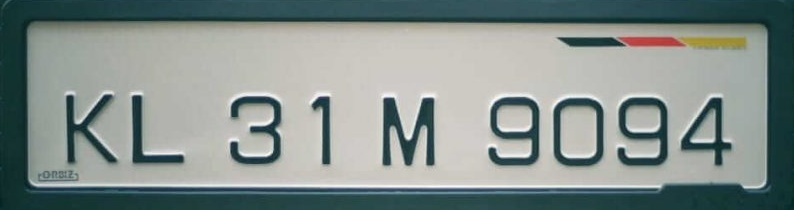character: (63, 89, 119, 166), (128, 90, 186, 164), (380, 93, 437, 167), (486, 94, 540, 166), (680, 94, 732, 168), (614, 94, 668, 165), (228, 94, 282, 164), (551, 94, 603, 166), (308, 92, 333, 165)
